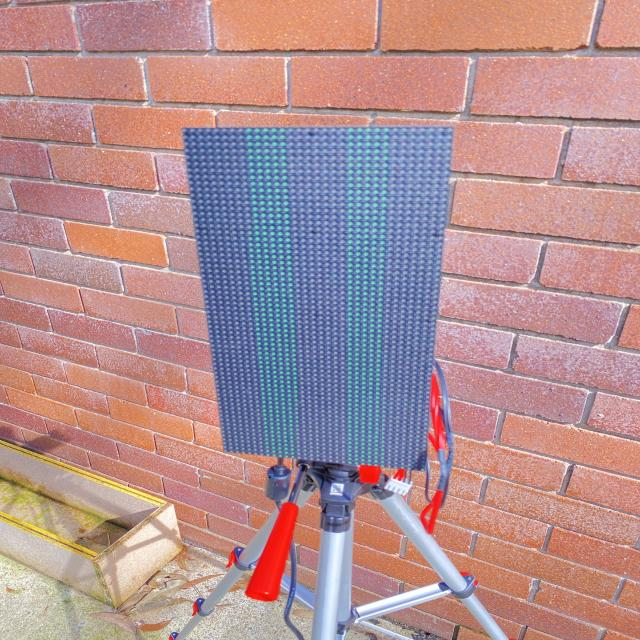matrix: (163, 117, 478, 489)
